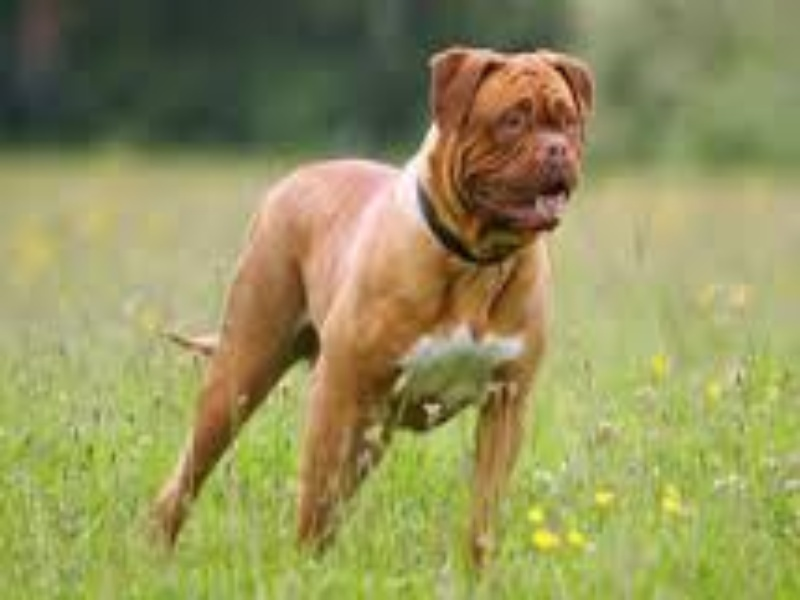dog: (145, 39, 589, 580)
